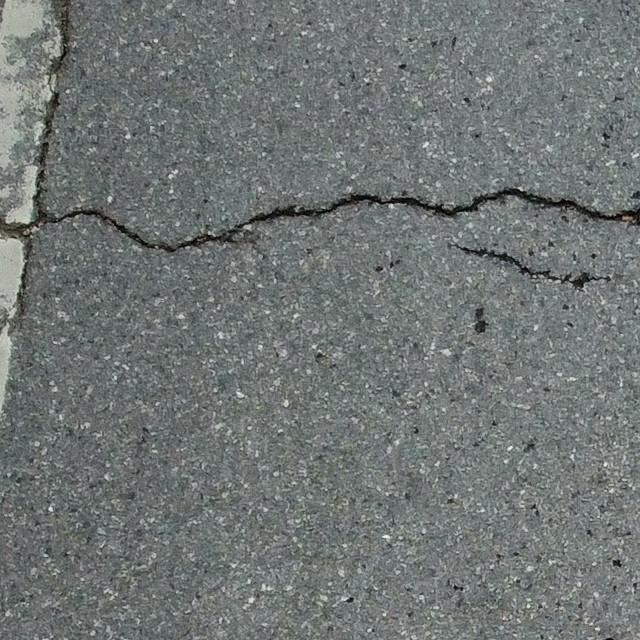LongitudinalCrack: (17, 1, 69, 312)
TransverseCrack: (1, 185, 640, 255)
